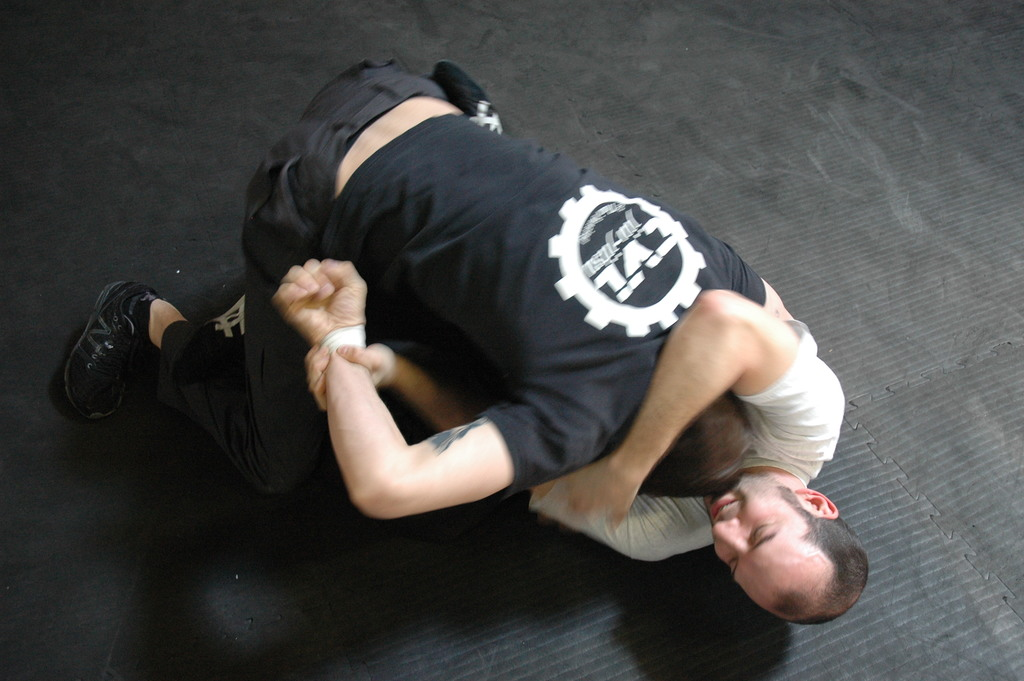Person: (54, 59, 872, 630), (198, 60, 856, 618)
